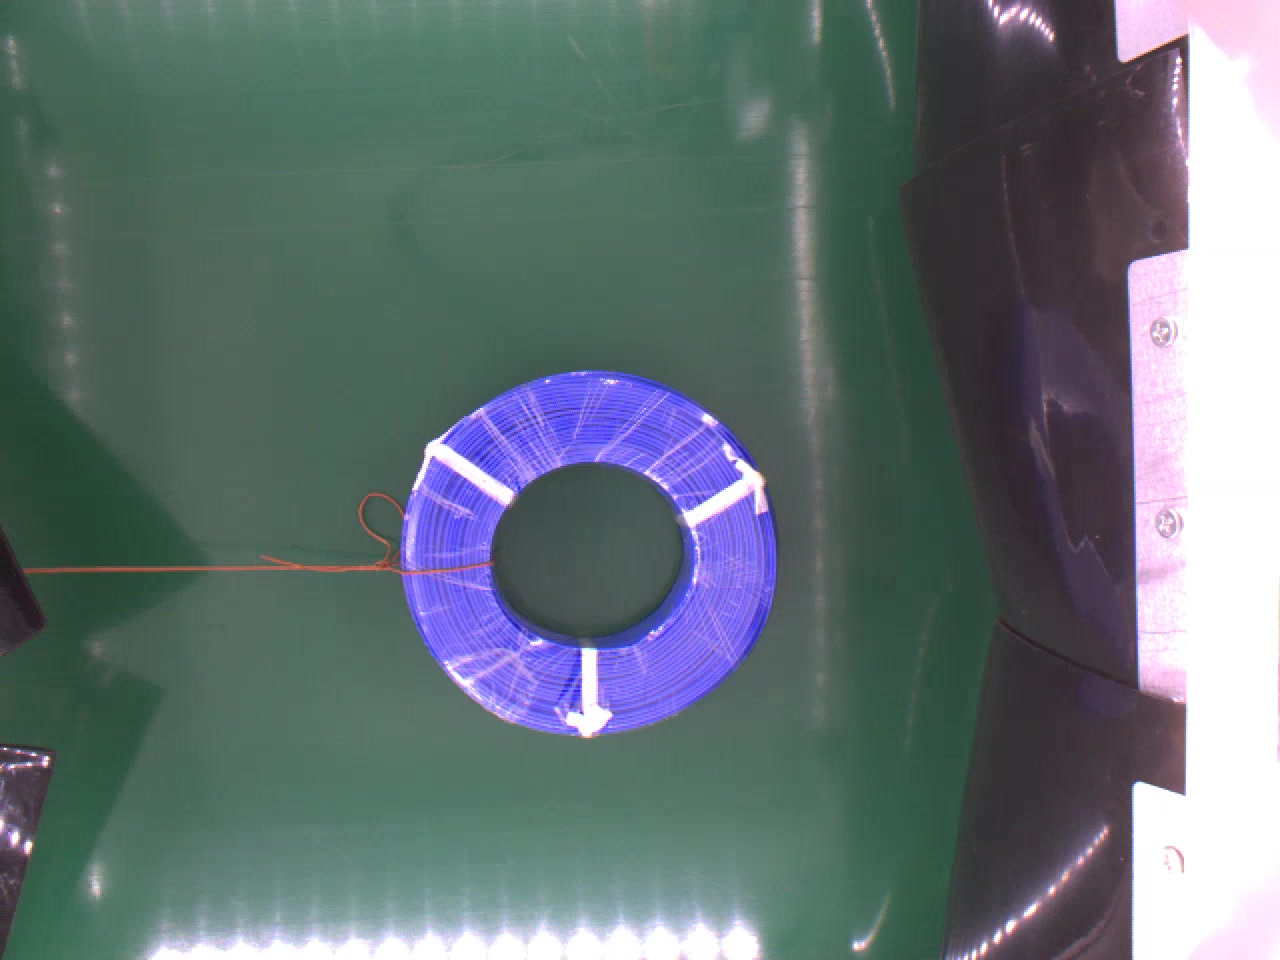blue: (399, 366, 779, 735)
